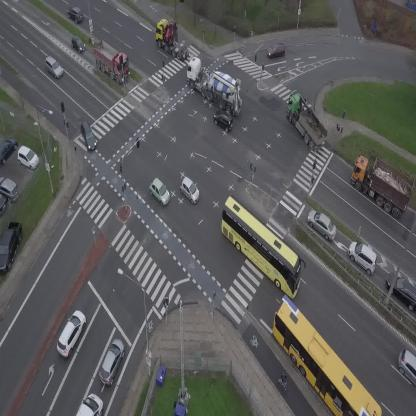bicycle: (279, 372, 286, 391)
bus: (255, 294, 385, 416), (205, 194, 318, 300)
car: (52, 308, 90, 358), (95, 336, 129, 387), (342, 237, 385, 277), (302, 205, 343, 244), (145, 176, 175, 207), (175, 175, 205, 205), (209, 107, 237, 133), (40, 54, 66, 81), (398, 349, 416, 385), (78, 119, 98, 151), (67, 33, 88, 55), (266, 43, 286, 58), (67, 6, 84, 23)
lorry: (176, 54, 255, 118), (278, 89, 332, 152), (84, 36, 138, 87), (149, 13, 192, 67), (76, 393, 103, 416)
